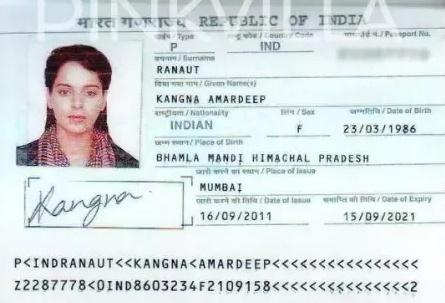DOB: (337, 118, 430, 138)
Surname: (145, 60, 212, 78)
country_code: (253, 36, 295, 57)
date_of_expiry: (334, 207, 434, 230)
date_of_issue: (195, 205, 288, 232)
details: (9, 246, 430, 297)
name: (149, 86, 283, 108)
nationality: (157, 115, 232, 135)
passport_no: (329, 43, 437, 69)
photo: (19, 38, 137, 168)
place_of_birth: (149, 147, 380, 168)
place_of_issue: (195, 177, 264, 194)
sex: (281, 119, 324, 137)
sign: (22, 179, 167, 236)
type: (156, 36, 193, 53)
